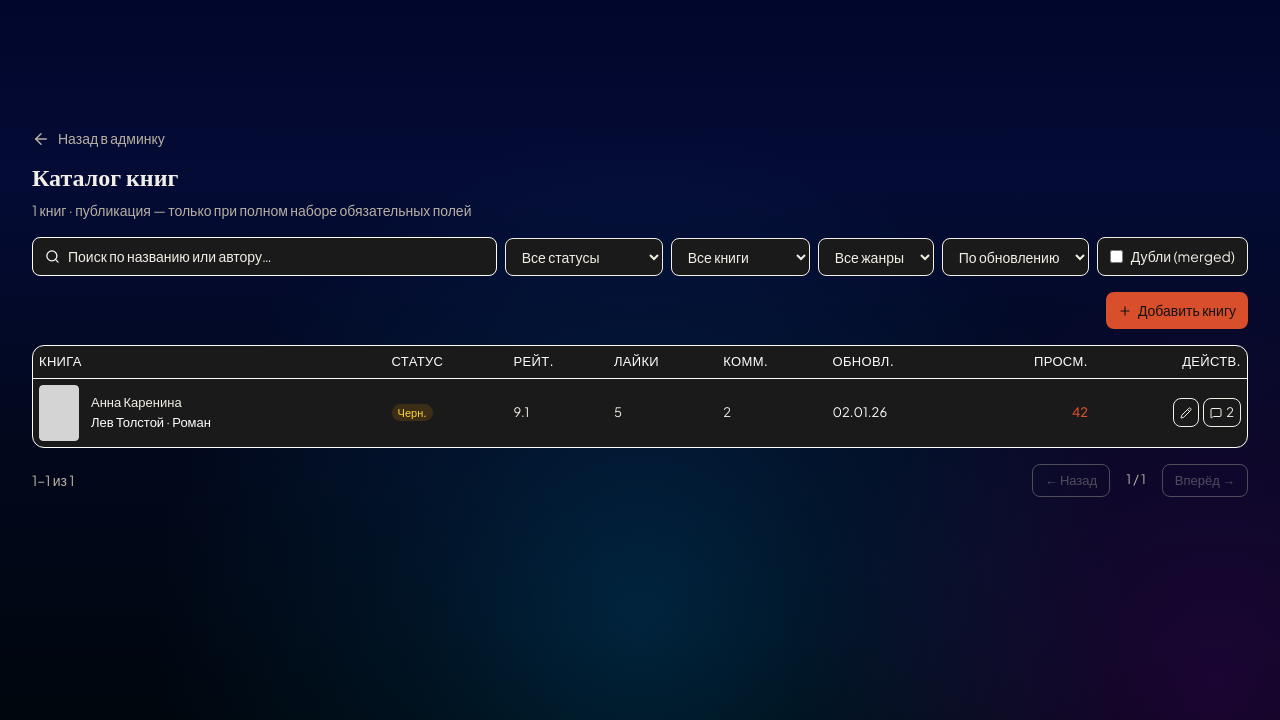
AdminBooksPage (Фаза 7) › «Опубликовать» закрывает редактор и показывает тост успеха
Check: the button "Анна Каренина" is shown, box x1=91 y1=393 x2=211 y2=413
Click the button named "Редактировать".
click(1186, 413)  # box x1=1173 y1=398 x2=1199 y2=427
(page scrolled)
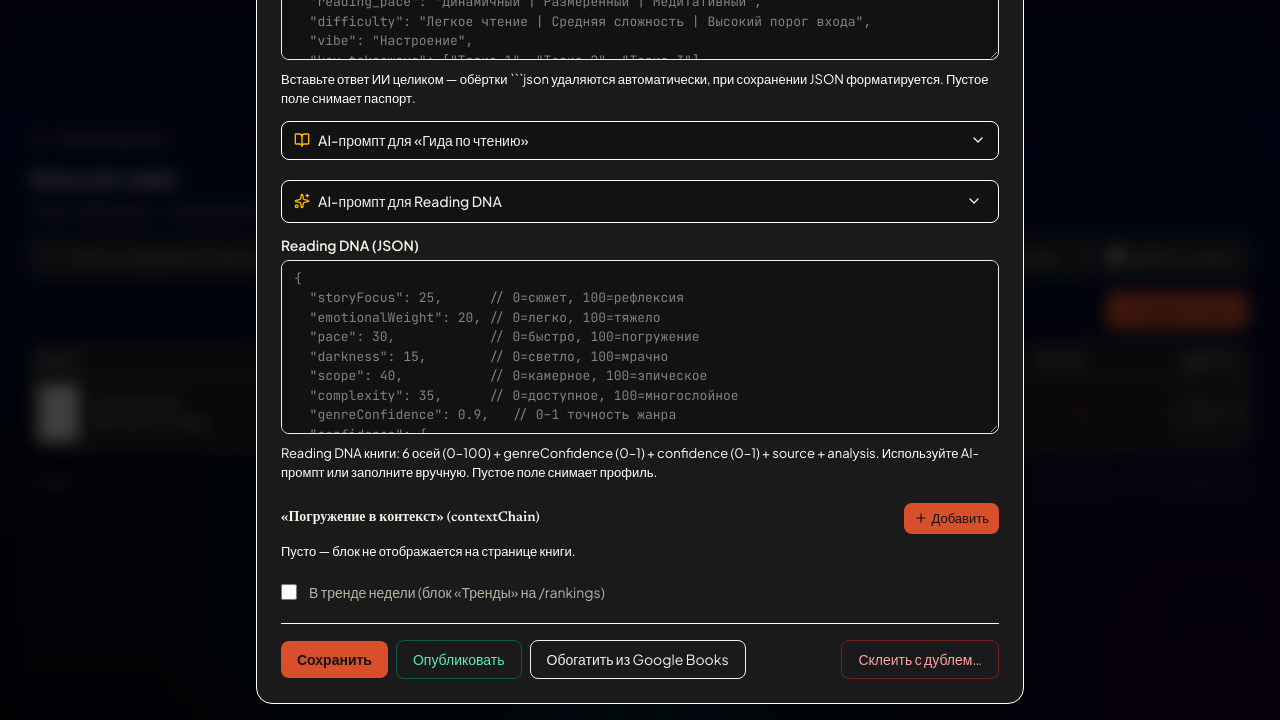
Click the button "Опубликовать".
click(459, 659)  # box x1=396 y1=640 x2=522 y2=678
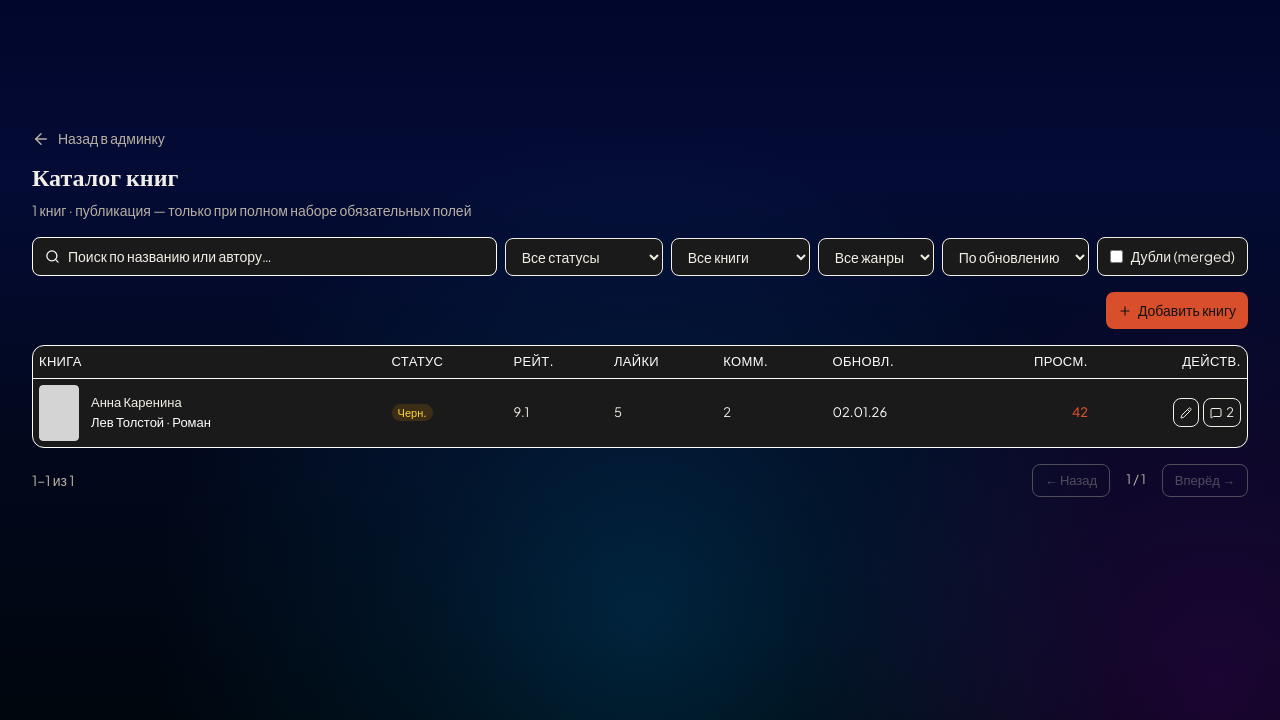
Check: the heading "«Погружение в контекст» (contextChain)" is gone
